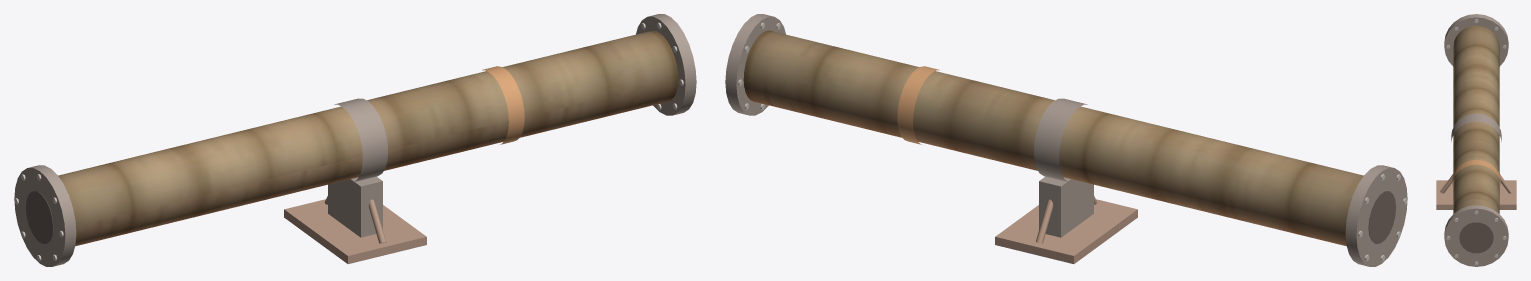
File: D11_pipe_segment_4m.glb
3 renders of one model, left to right at view 1: azimuth 30°, elevation 25°; view 2: azimuth 150°, elevation 25°; view 3: azimuth 270°, elevation 25°, orthographic. The views are drawn at different scales.
Parts seen in each view (by area): view 1: pipe, flange, support_base, bore, flange_bolt; view 2: pipe, flange, support_base, bore, flange_bolt; view 3: pipe, flange, bore, support_base, flange_bolt.
Boxes of the visible parts, left/top/right/bottom form: pipe: left=58, top=30, right=678, bottom=246; flange: left=14, top=14, right=696, bottom=266; support_base: left=284, top=179, right=426, bottom=263; bore: left=26, top=66, right=524, bottom=243; flange_bolt: left=14, top=22, right=683, bottom=261; pipe: left=743, top=30, right=1363, bottom=246; flange: left=725, top=14, right=1407, bottom=266; support_base: left=995, top=179, right=1137, bottom=263; bore: left=897, top=66, right=1395, bottom=243; flange_bolt: left=738, top=22, right=1407, bottom=261; pipe: left=1453, top=25, right=1499, bottom=213; flange: left=1444, top=14, right=1508, bottom=266; bore: left=1452, top=159, right=1500, bottom=253; support_base: left=1436, top=174, right=1516, bottom=209; flange_bolt: left=1446, top=19, right=1506, bottom=265.
Size of the model in its own units: 4.02 by 0.8299 by 0.7.
Materials: 5 (1 with a texture image).
